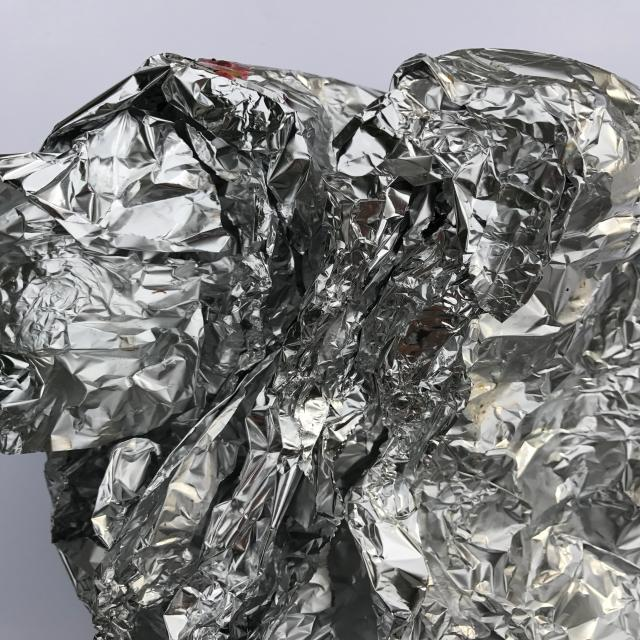metal: (1, 47, 638, 639)
